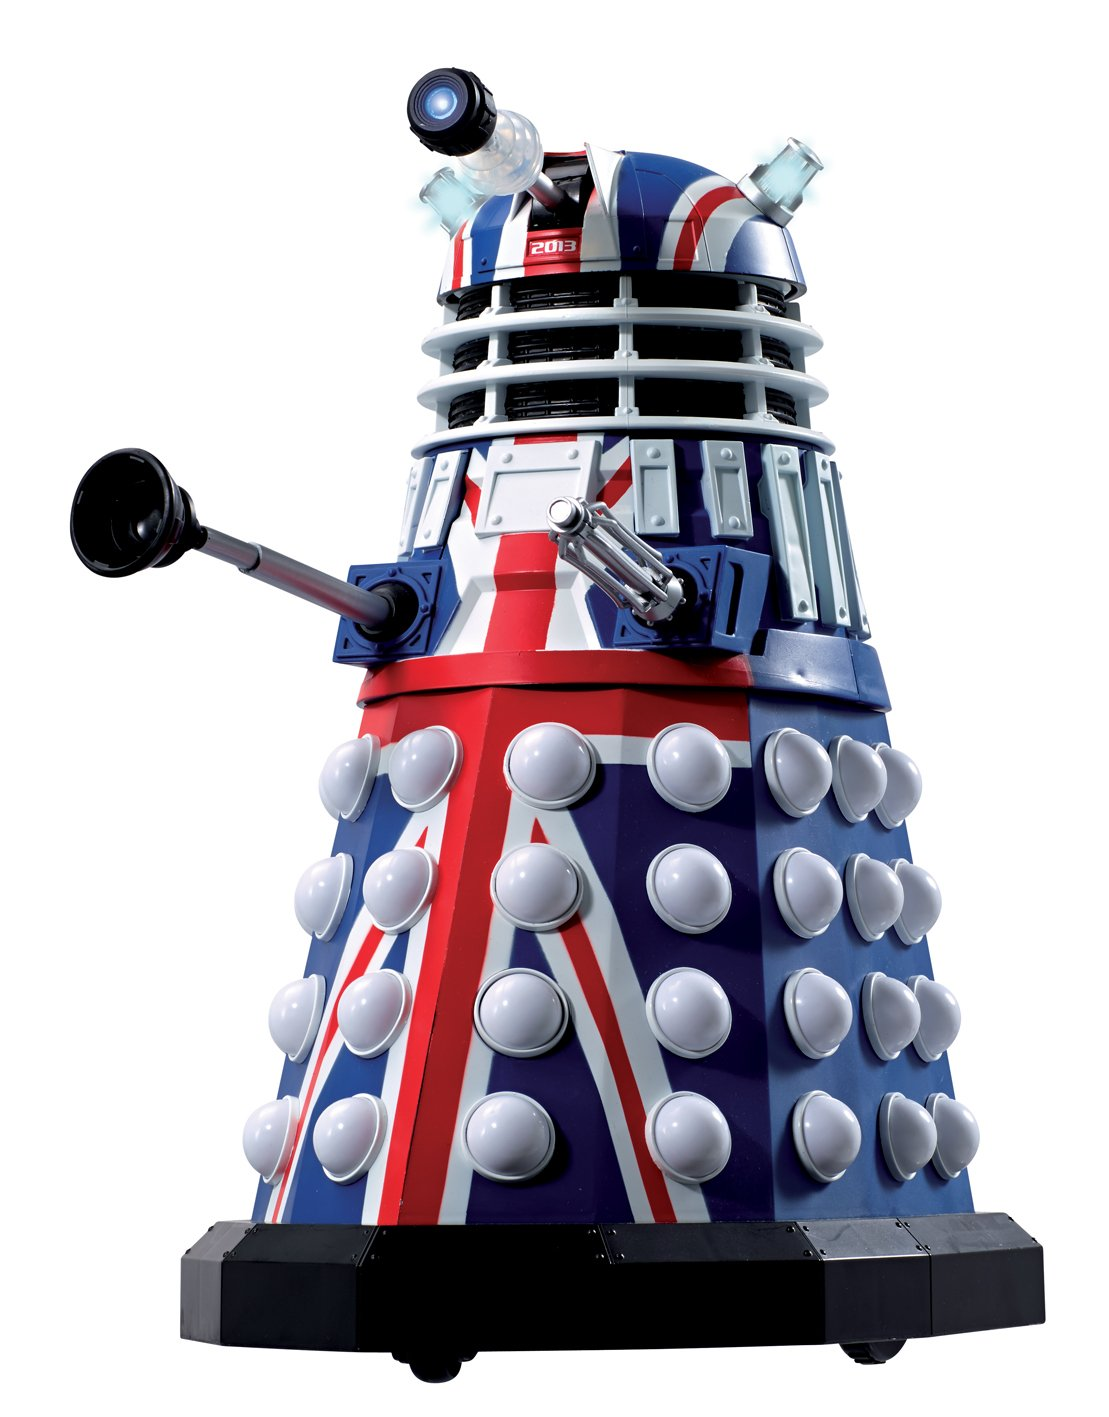dalek: (112, 31, 1076, 1376)
